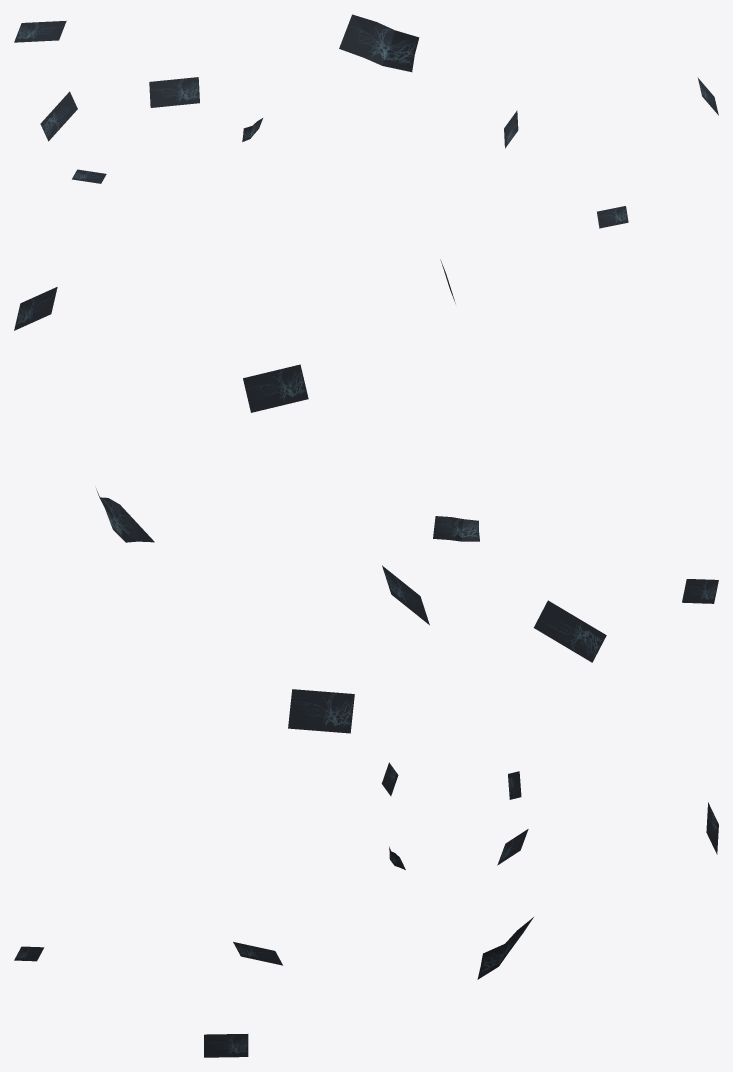
The model's file is Area_09_9.FBX.
3 renders of one model, top to bottom at view 1: azimuth 30°, elevation 25°; view 2: azimuth 150°, elevation 25°; view 3: azimuth 270°, elevation 25°, orthographic. The views are drawn at different scales.
Visible parts, largest first — view 1: Area_09_9; view 2: Area_09_9; view 3: Area_09_9.
Part boxes in pixels (bbox=[...]): Area_09_9: bbox=[14, 14, 718, 228]; Area_09_9: bbox=[14, 259, 718, 733]; Area_09_9: bbox=[14, 762, 718, 1057].
Size of the model in its own units: 6826 by 534 by 7216.
1 material, 1 textured.
